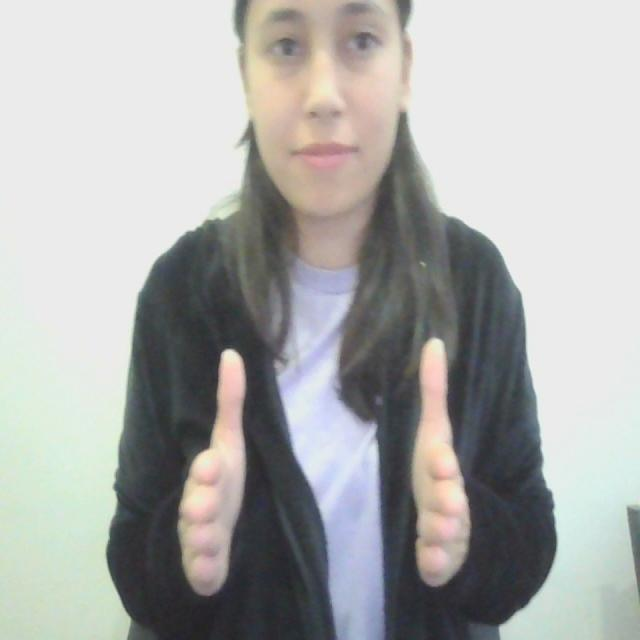Nasil: (168, 334, 478, 600)
